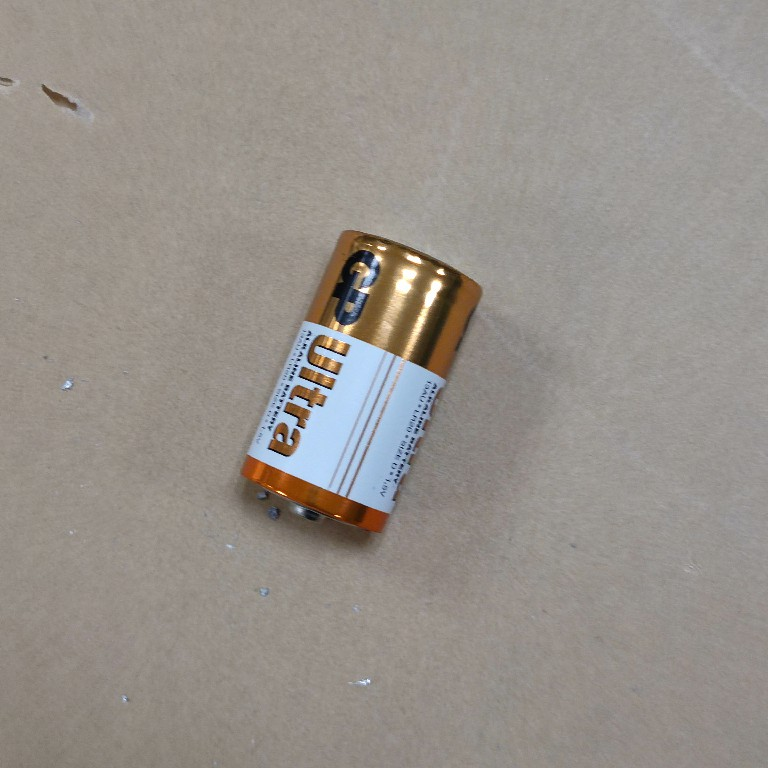charge: (236, 222, 490, 536)
